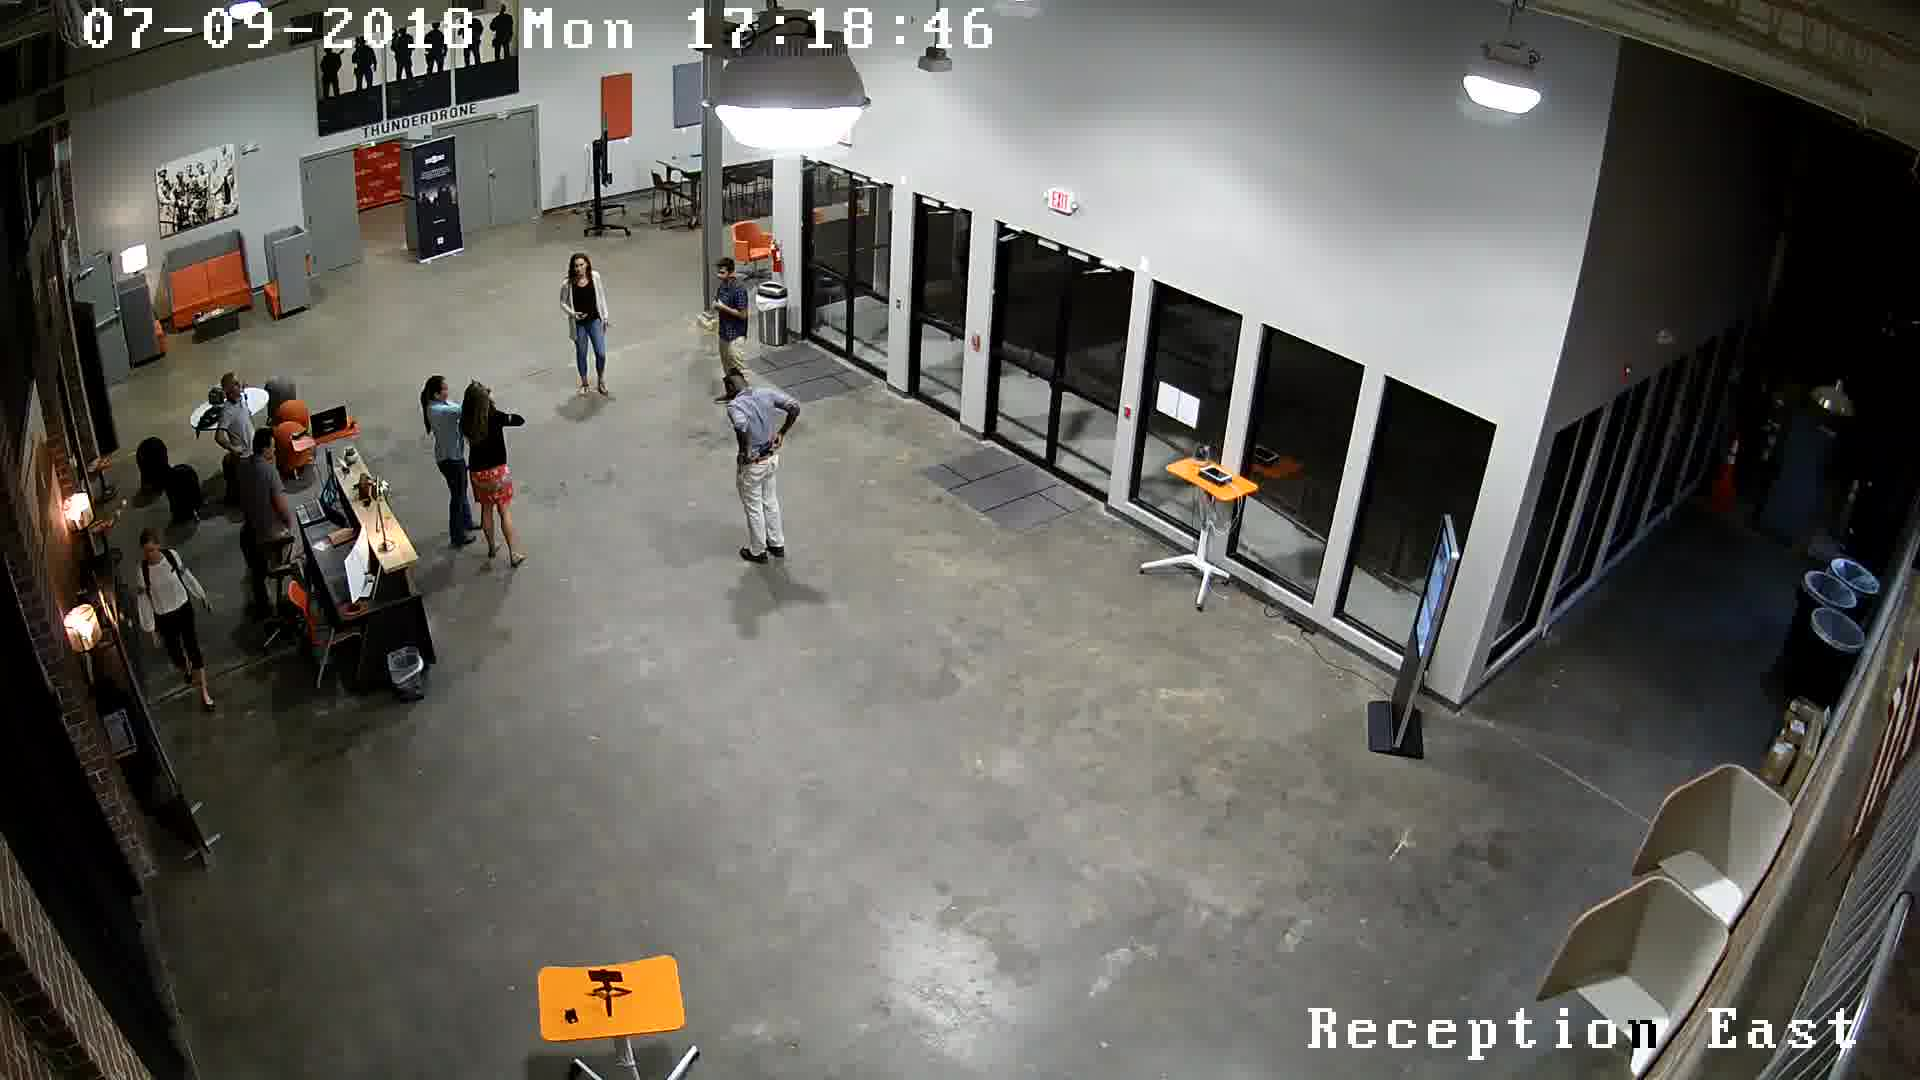pistol: (745, 427, 793, 468), (698, 285, 729, 327)
